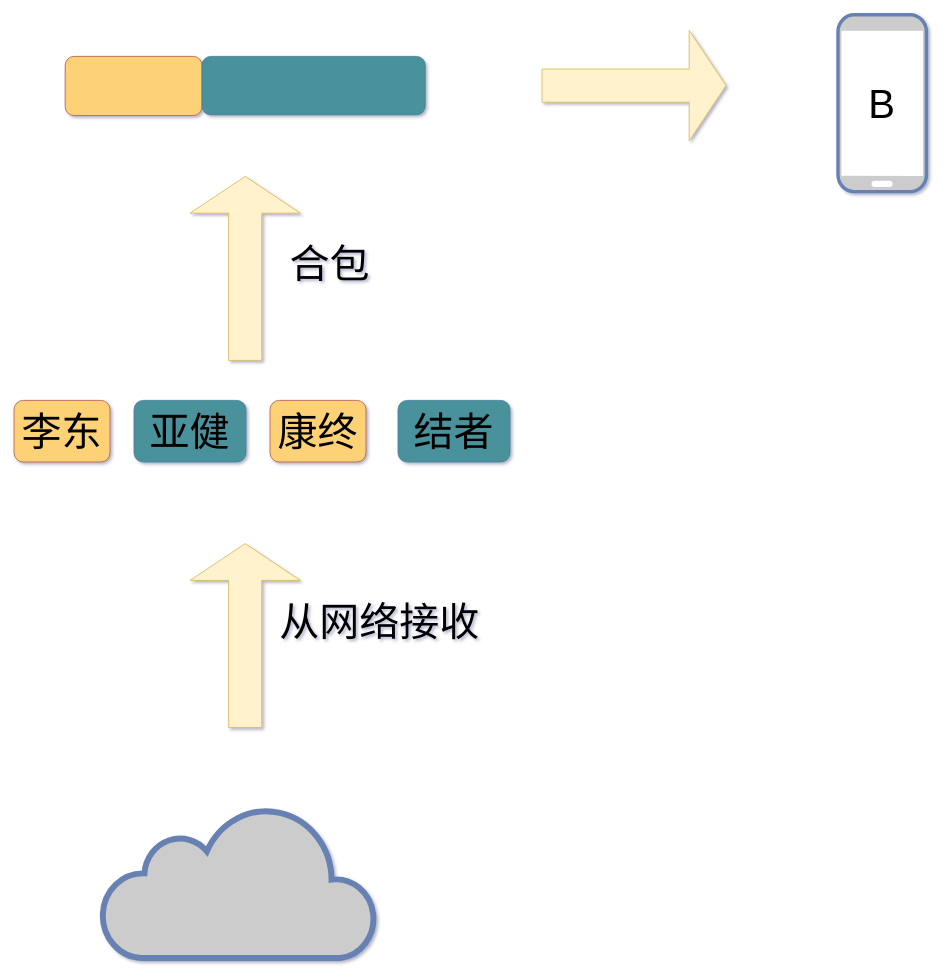
The diagram is 946 pixels wide and 977 high, and some of its shapes have lost their labels. Each missing label, with the box of its shape:
健康终结者: (201, 56, 425, 115)
李东亚: (64, 56, 202, 116)
网络: (101, 805, 376, 958)
